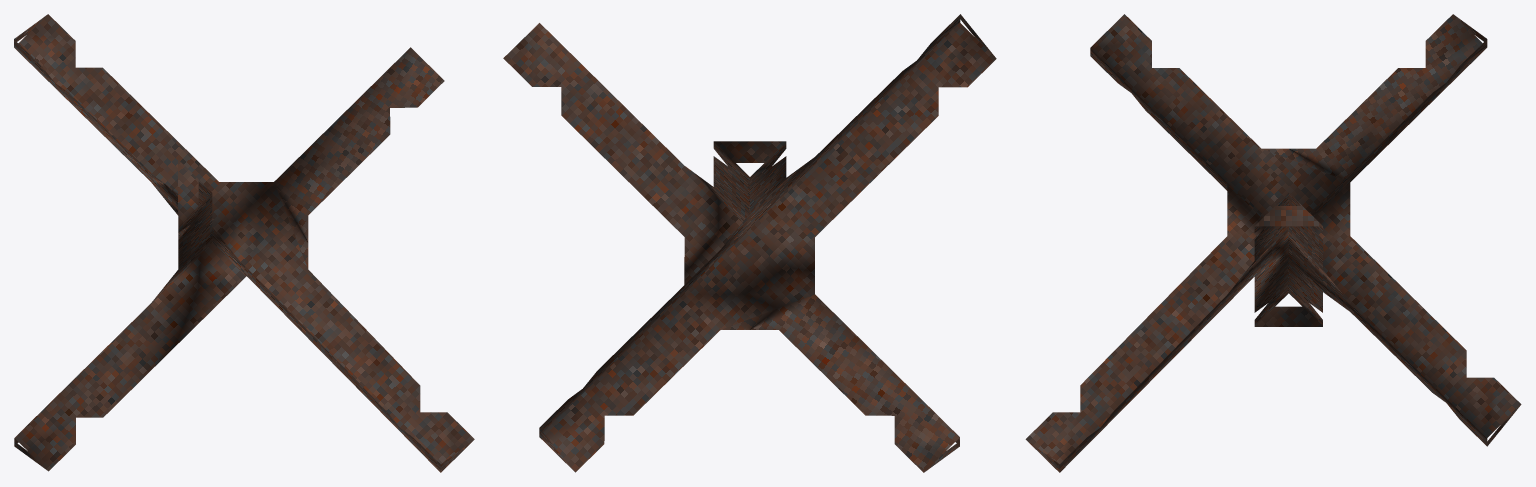
File: BARIKADE.obj
3 views of the same model, side by side, from view 1: azimuth 30°, elevation 25°; view 2: azimuth 150°, elevation 25°; view 3: azimuth 270°, elevation 25° (orthographic). The views are drawn at different scales.
Visible parts, largest first — view 1: Cube.006; view 2: Cube.006; view 3: Cube.006.
Boxes of the visible parts, left/top/right/bottom form: Cube.006: left=14, top=14, right=474, bottom=472; Cube.006: left=503, top=14, right=996, bottom=472; Cube.006: left=1025, top=14, right=1521, bottom=472.
Bounding box in the file's own units: 74.04 × 59.28 × 76.88.
